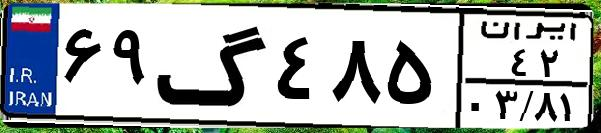0: (470, 70, 495, 125)
1: (560, 70, 590, 125)
2: (537, 27, 568, 80)
3: (495, 70, 520, 125)
4: (270, 28, 330, 110), (508, 27, 537, 80)
5: (385, 28, 445, 110)
6: (57, 26, 110, 100)
8: (330, 28, 385, 110), (535, 70, 560, 125)
9: (110, 28, 156, 98)
گ: (156, 12, 270, 120)
